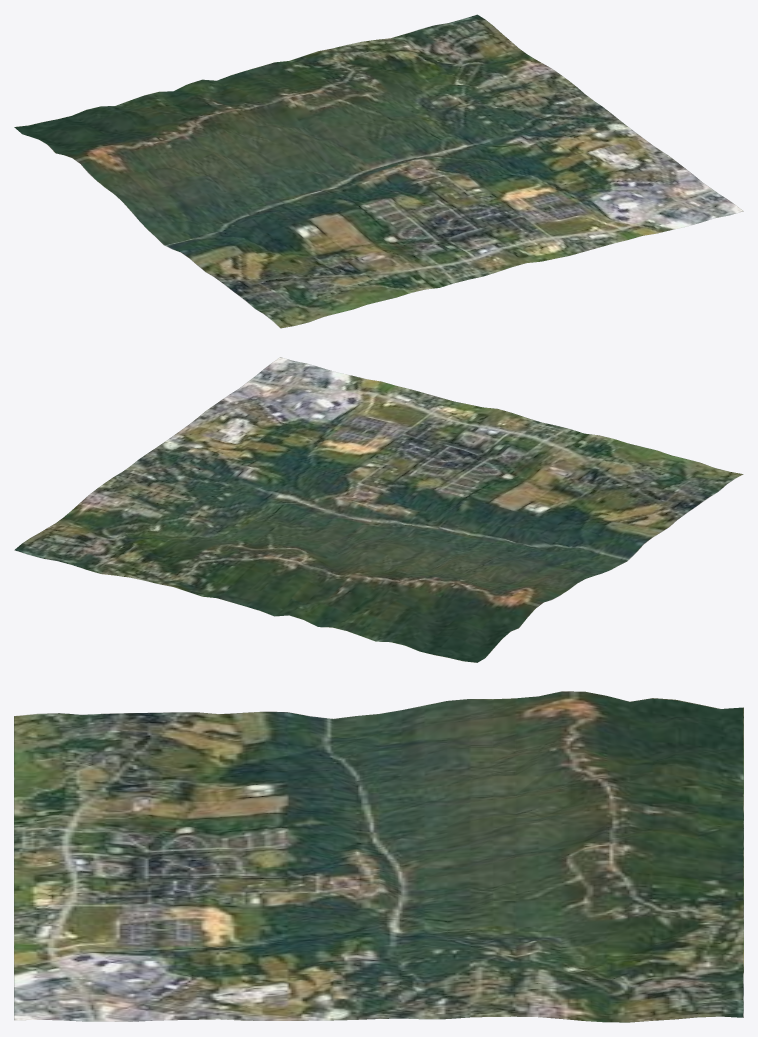
3 renders of one model, top to bottom at view 1: azimuth 30°, elevation 25°; view 2: azimuth 150°, elevation 25°; view 3: azimuth 270°, elevation 25°, orthographic. The views are drawn at different scales.
Bounding box in the file's own units: 3904 × 174 × 3886.
Materials: 1 (1 with a texture image).
